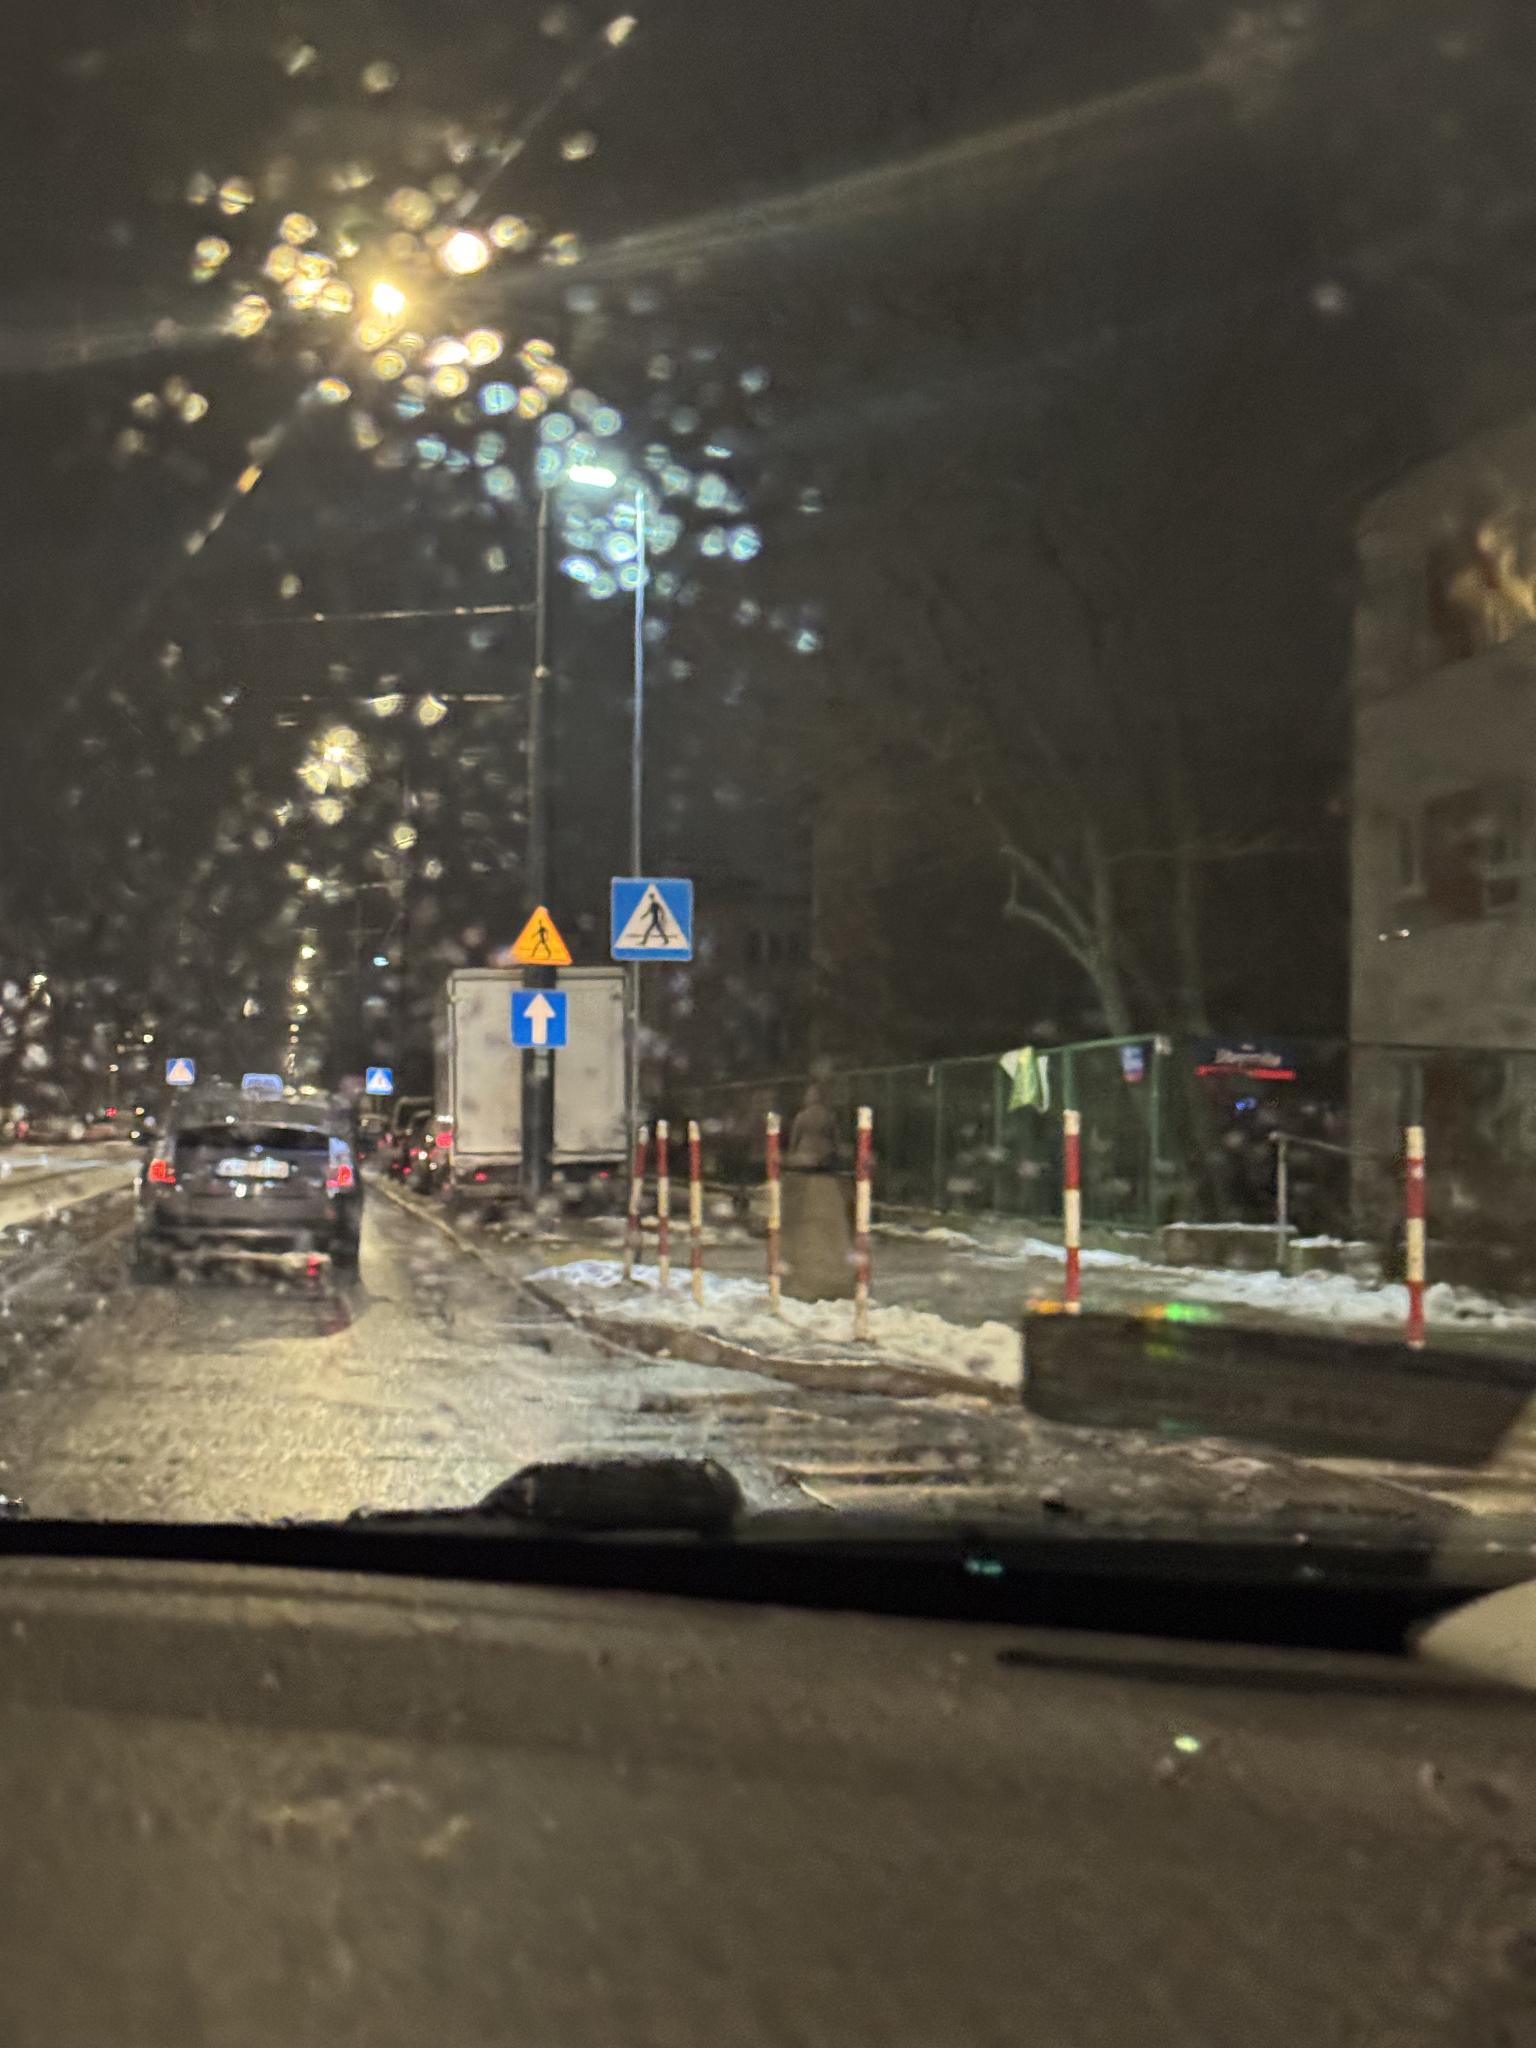information: (611, 877, 694, 961), (511, 990, 568, 1048), (168, 1056, 195, 1085), (366, 1068, 394, 1095)
warning: (508, 906, 574, 966)
